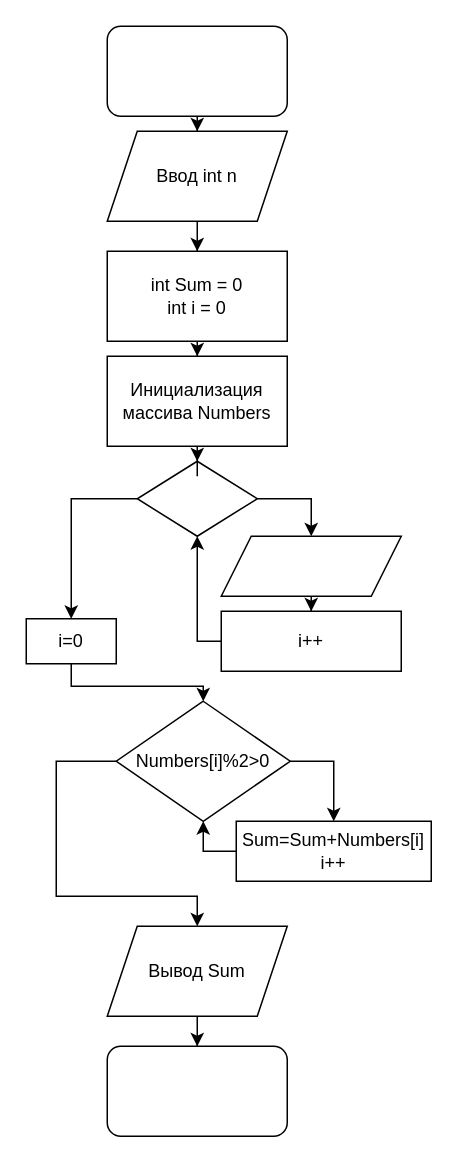
This 458x1163 diagram has some shape labels left out. Here are the shapes that lost their labels. From the top down, the centre of each, then its label:
At (196,70): "Начало".
At (196,498): "i<n".
At (310,565): "Ввод Numbers[i]".
At (196,1090): "Конец".
